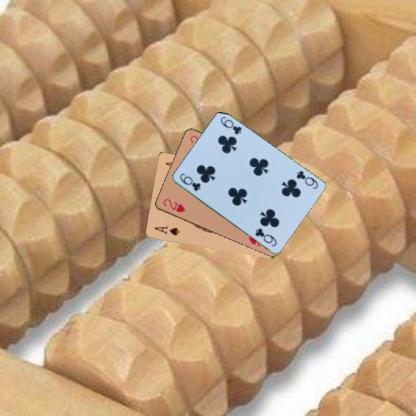2h: (160, 196, 187, 214)
6c: (176, 170, 202, 192), (293, 168, 319, 190)
As: (152, 223, 180, 237)
